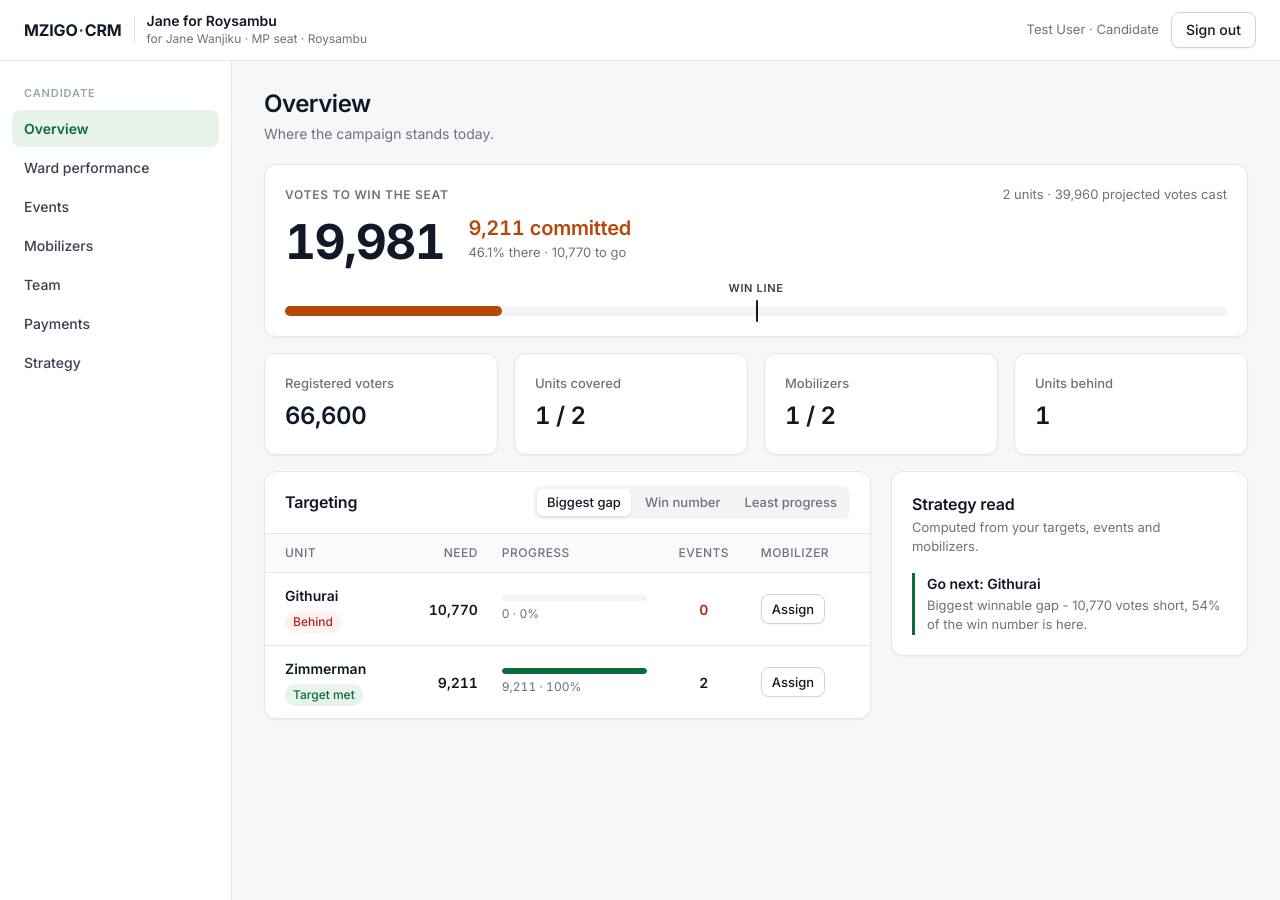
Scenario: the team page › lets the aspirant replace the manager and keeps the new password on screen
Step 1. Click the button "Team" → (116, 284), box [12,266,219,303]
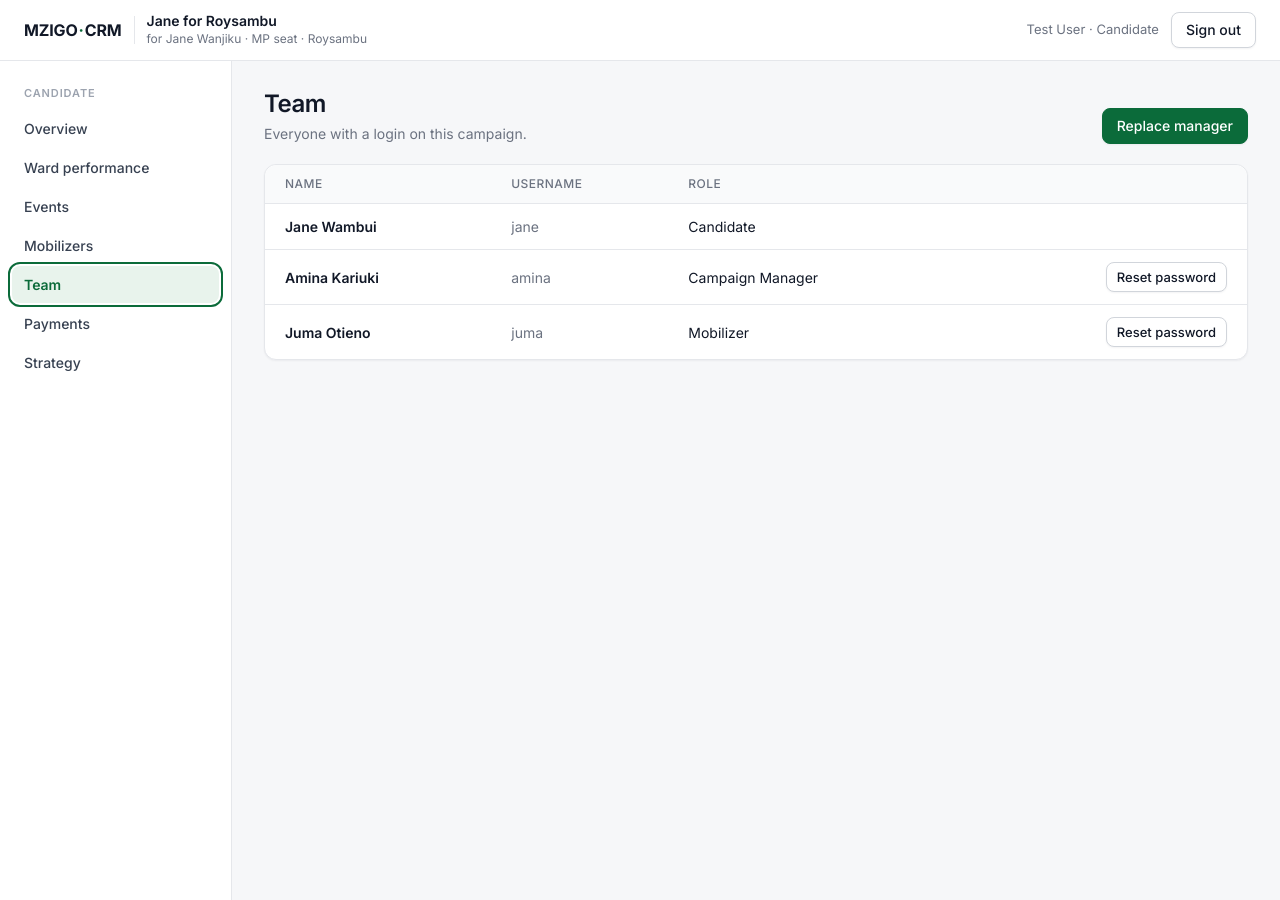
Result: the text "Amina Kariuki" is shown at [265,250,499,305]
Step 2. Click the button "Replace manager" → (1175, 126), box [1102,108,1248,144]
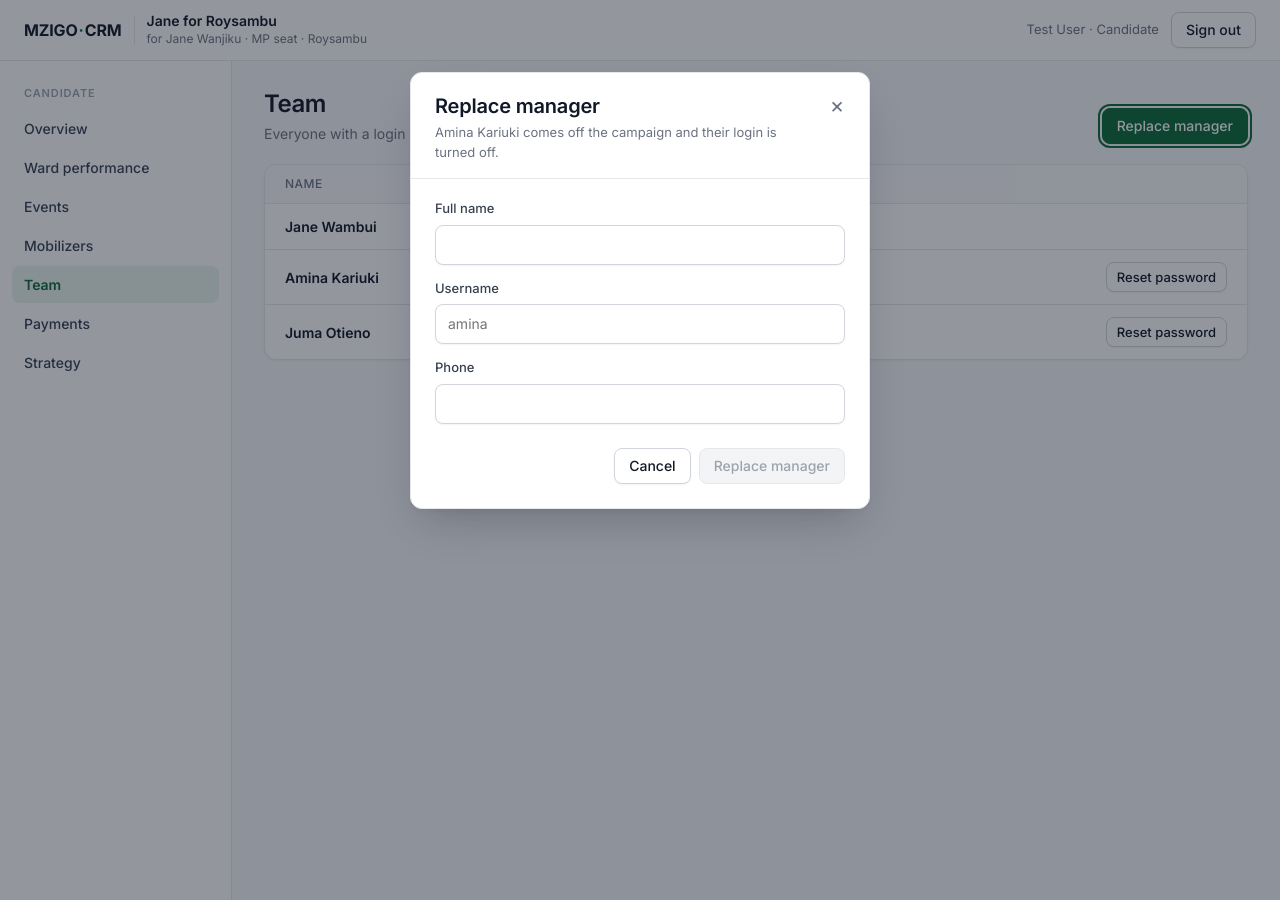
Step 3. Type "Wanjiru Kamau" into the field named "Full name" → (640, 244), box [435,224,845,264]
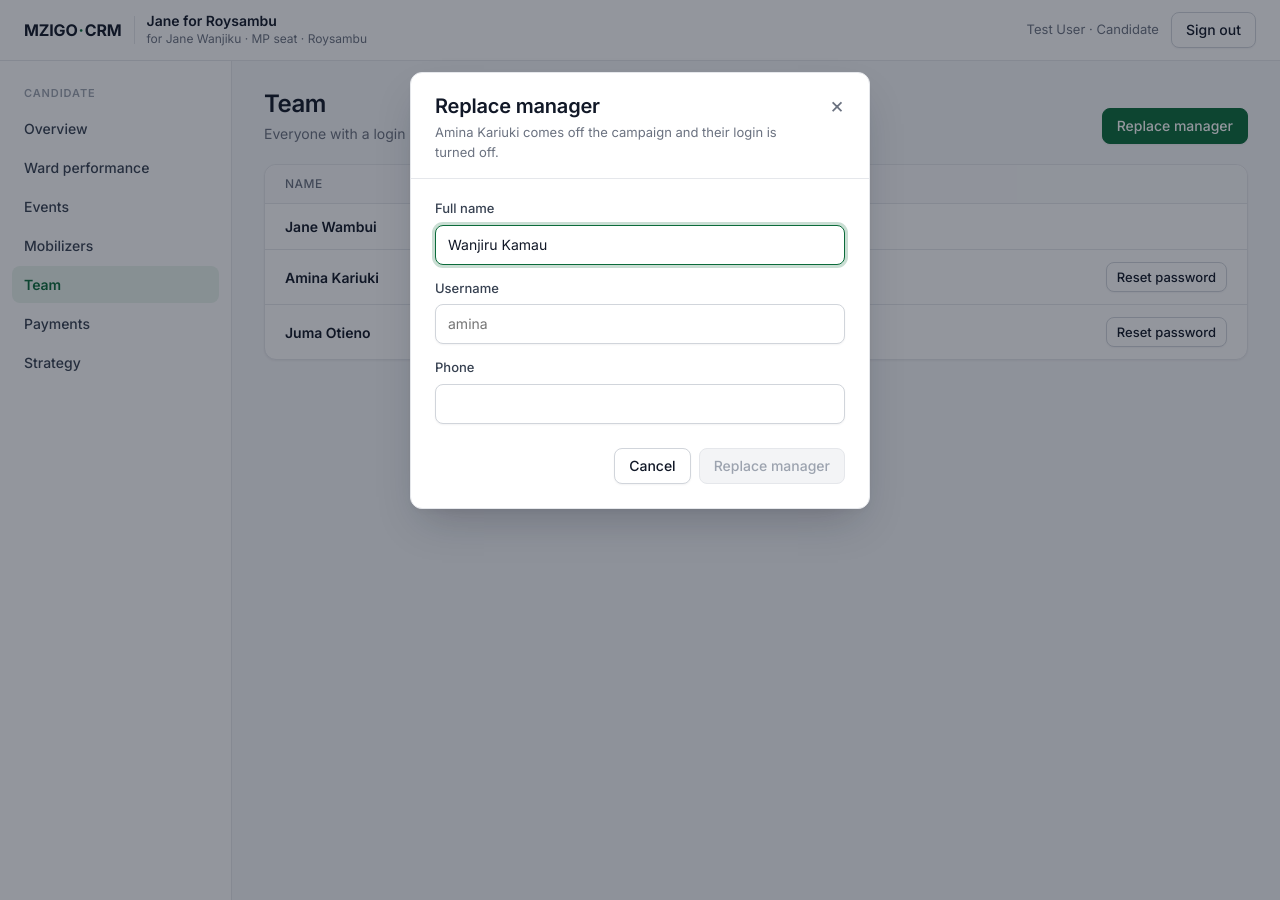
Step 4. Type "Wanjiru" into the field named "Username" → (640, 324), box [435,304,845,344]
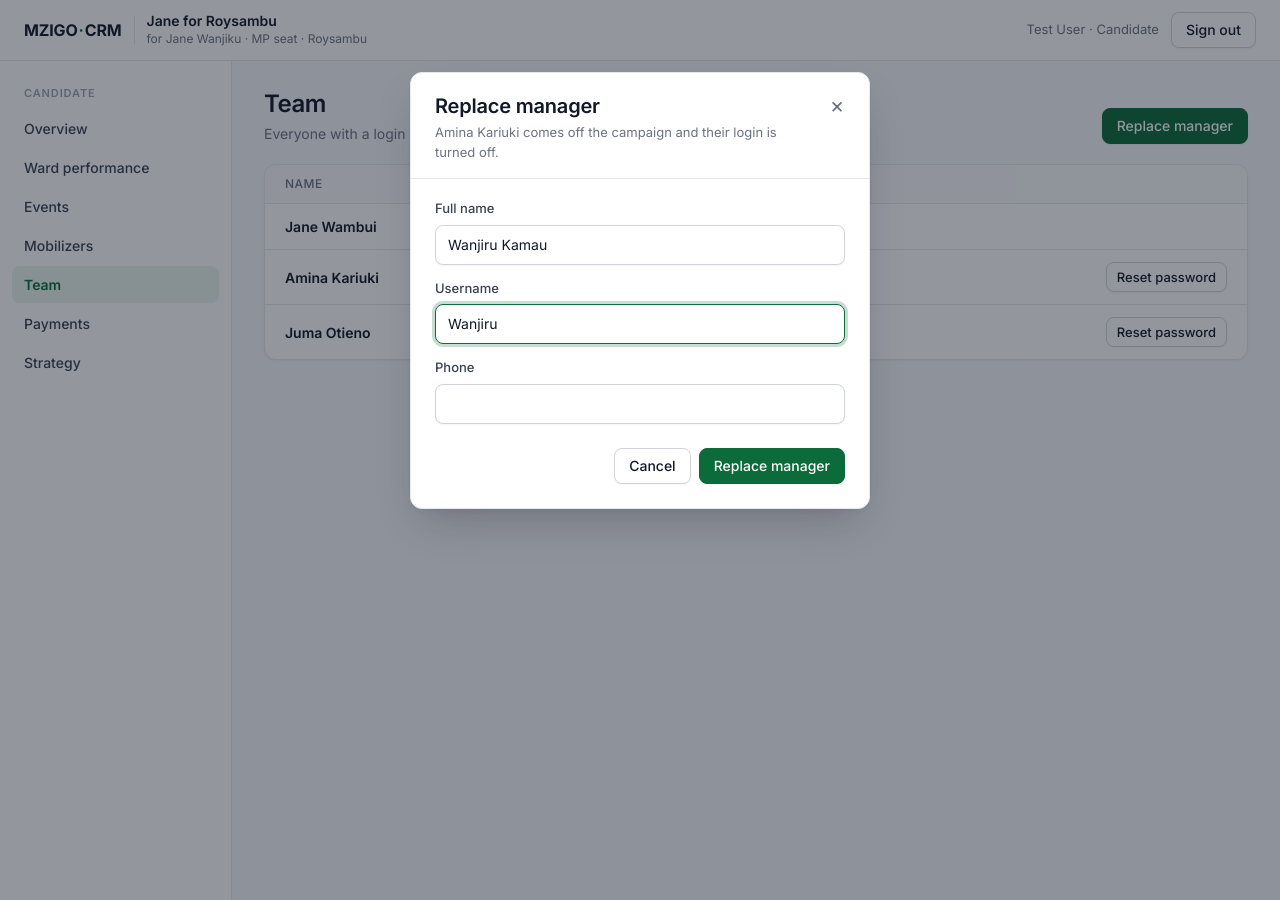
Step 5. Click the button "Replace manager" → (772, 466), box [699,448,845,484]
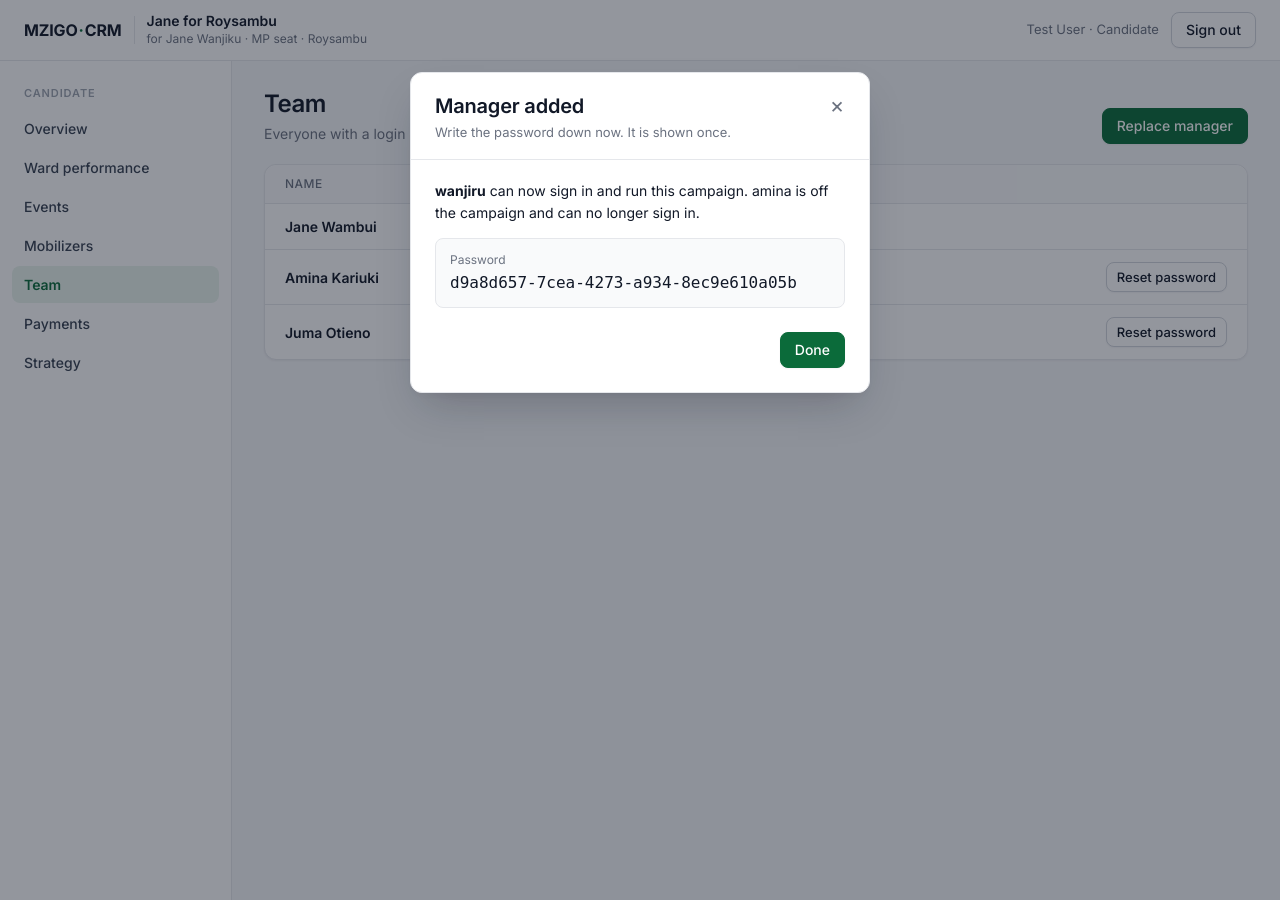
Result: the text "amina is off the campaign" is shown at [435,180,845,224]
